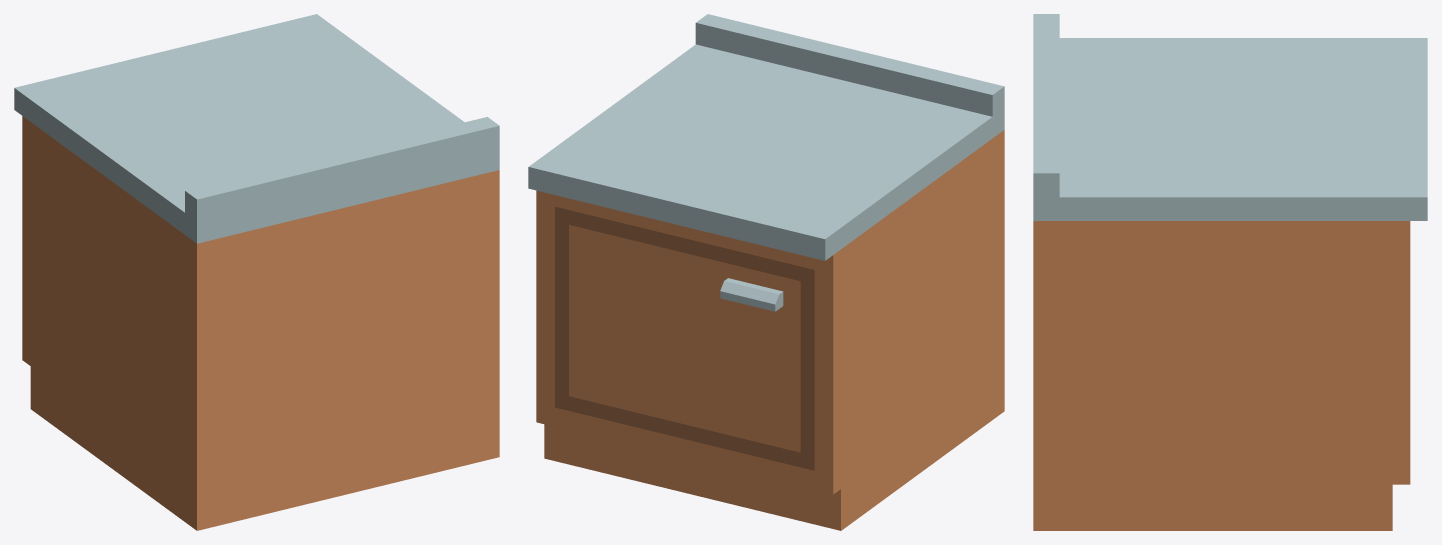
The model's file is kitchenCabinet.obj.
3 renders of one model, left to right at view 1: azimuth 30°, elevation 25°; view 2: azimuth 150°, elevation 25°; view 3: azimuth 270°, elevation 25°, orthographic. The views are drawn at different scales.
Parts seen in each view (by area): view 1: kitchenCabinet; view 2: kitchenCabinet, door; view 3: kitchenCabinet.
Part boxes in pixels (x1,y1,x2,y2): kitchenCabinet: (14,14,499,530); kitchenCabinet: (528,14,1004,530); door: (555,206,814,470); kitchenCabinet: (1033,14,1427,530).
Bounding box in the file's own units: 0.43 × 0.45 × 0.45.
